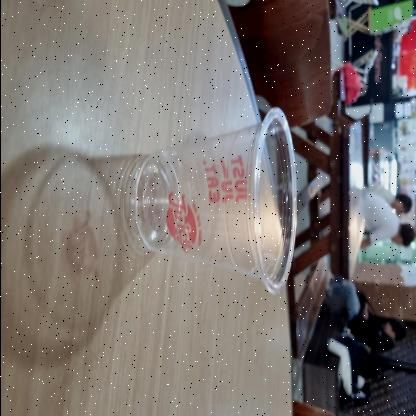Others: (129, 102, 299, 300)
